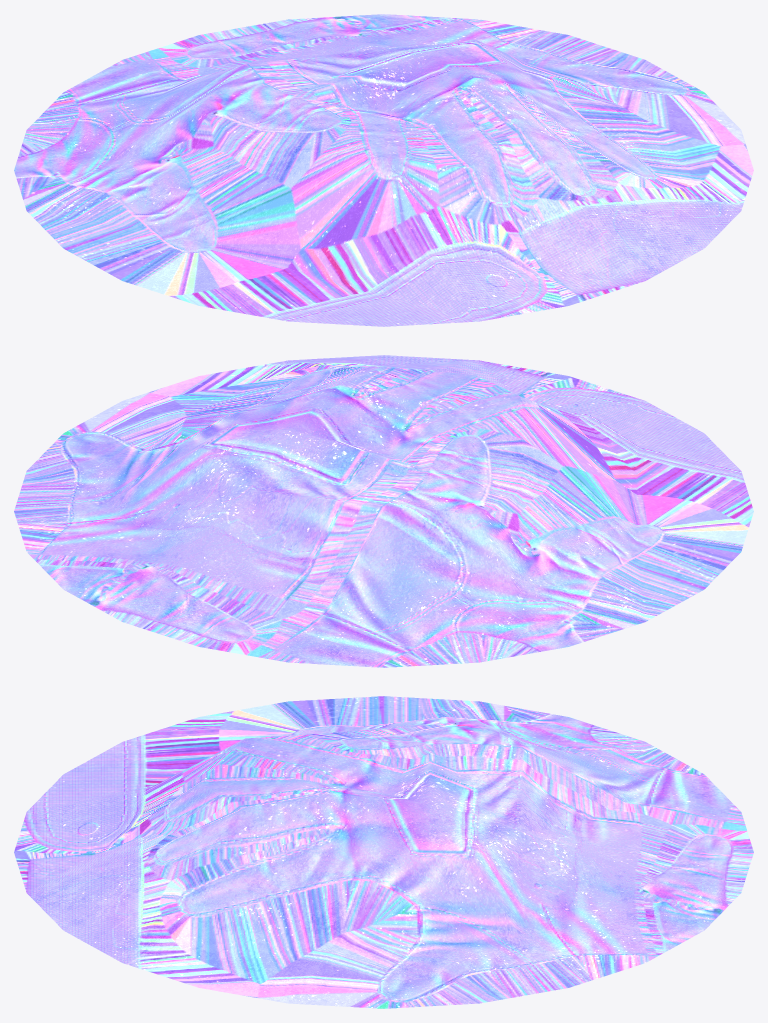
Rendered from small_dirt.fbx.
3 renders of one model, top to bottom at view 1: azimuth 30°, elevation 25°; view 2: azimuth 150°, elevation 25°; view 3: azimuth 270°, elevation 25°, orthographic.
Visible parts, largest first — view 1: Object_2; view 2: Object_2; view 3: Object_2.
Boxes of the visible parts, x1,y1,x2,y2 form: Object_2: (14, 14, 753, 326); Object_2: (14, 355, 753, 667); Object_2: (14, 696, 753, 1008).
Bounding box in the file's own units: 5870 × 808 × 5870.
